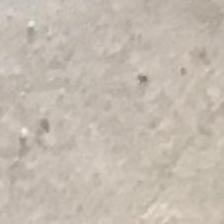Non_Crack: (38, 42, 199, 212)
